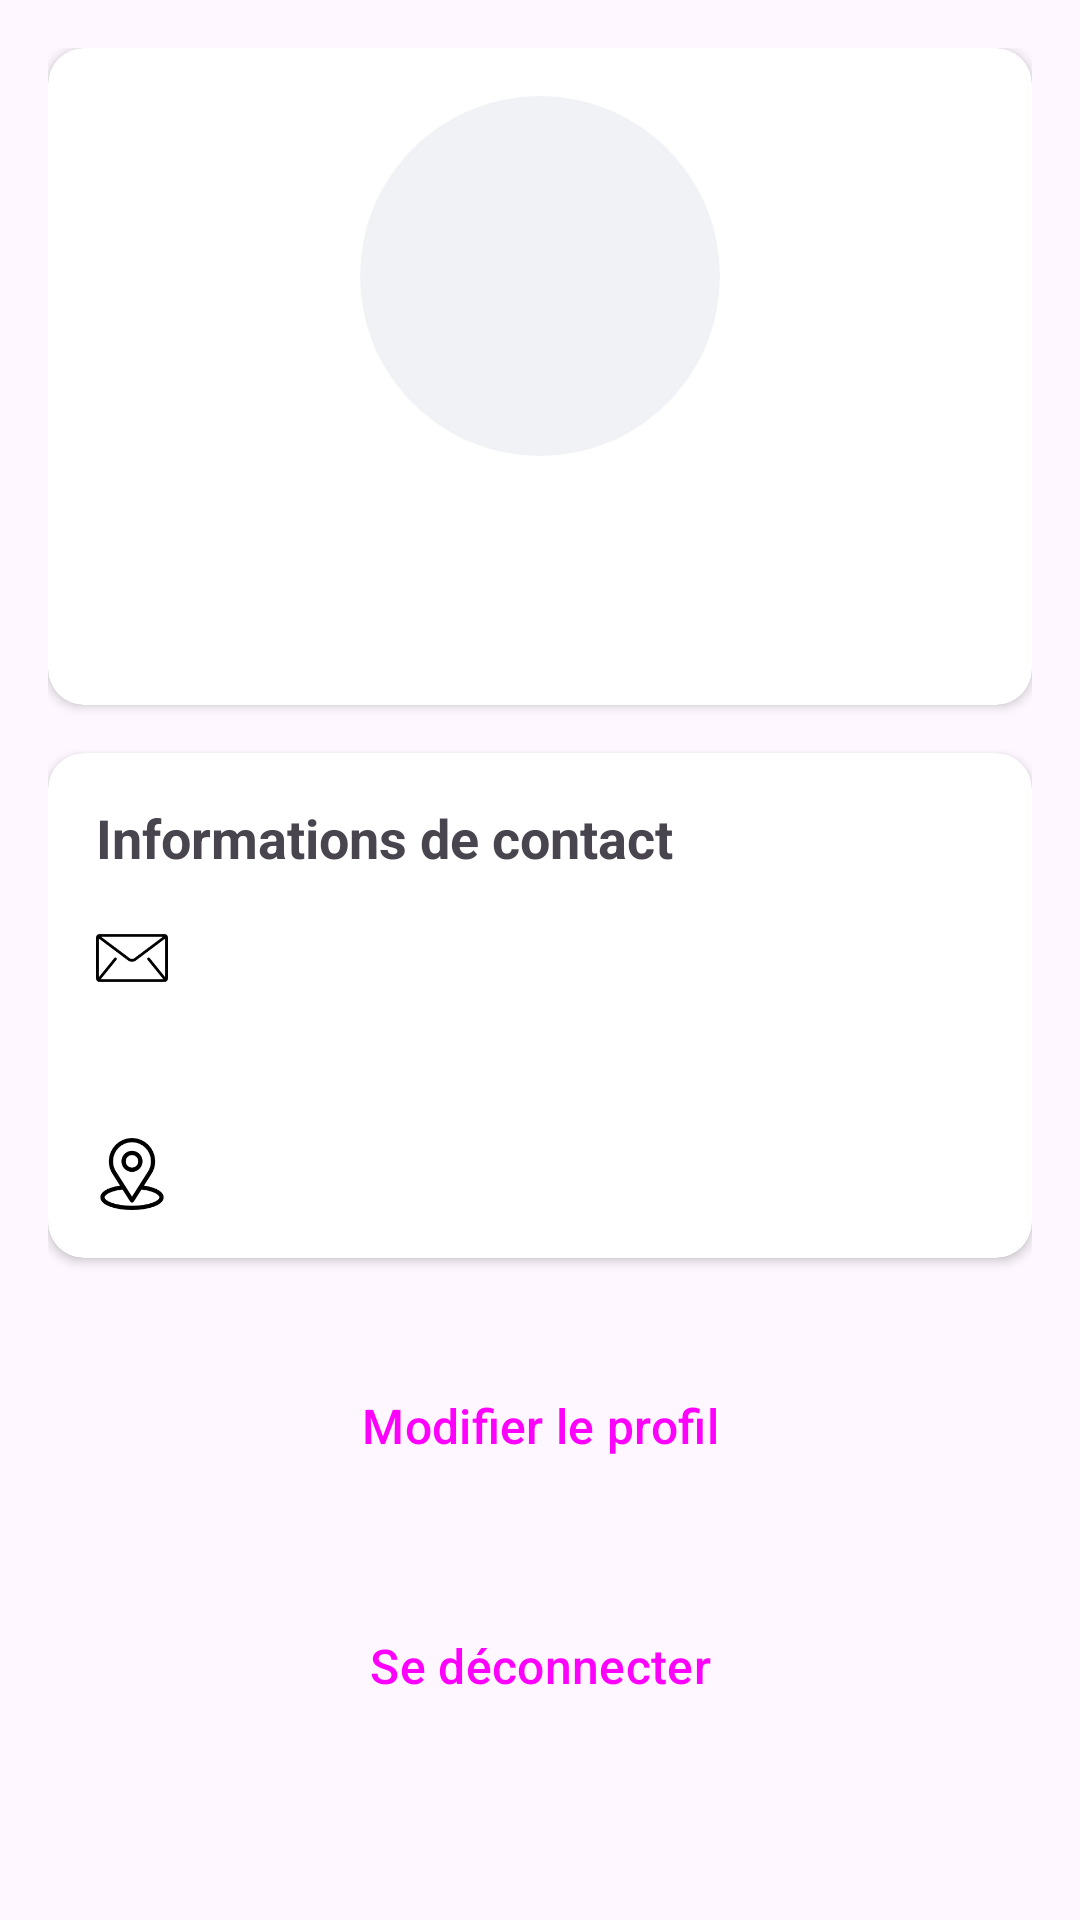

Screen size 1080 x 1920. Icon name, then its center in pixels as [x,y]:
email: [132,958]
location: [132,1174]
